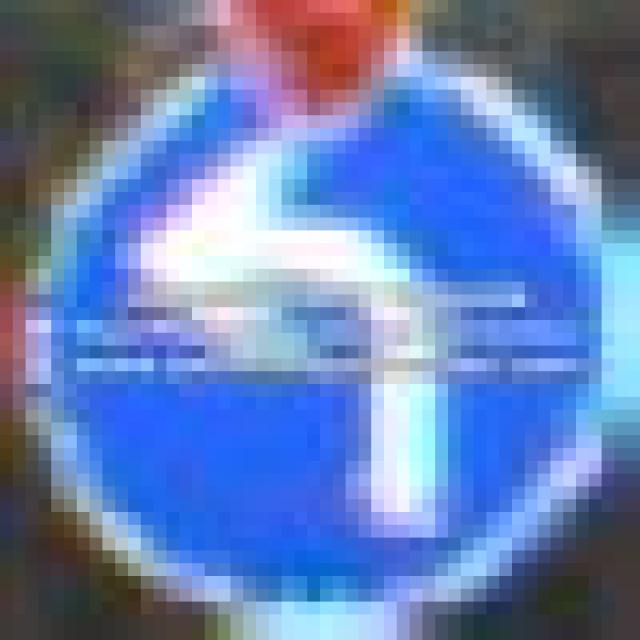COMPULSARY_TURN_LEFT: (12, 26, 602, 602)
